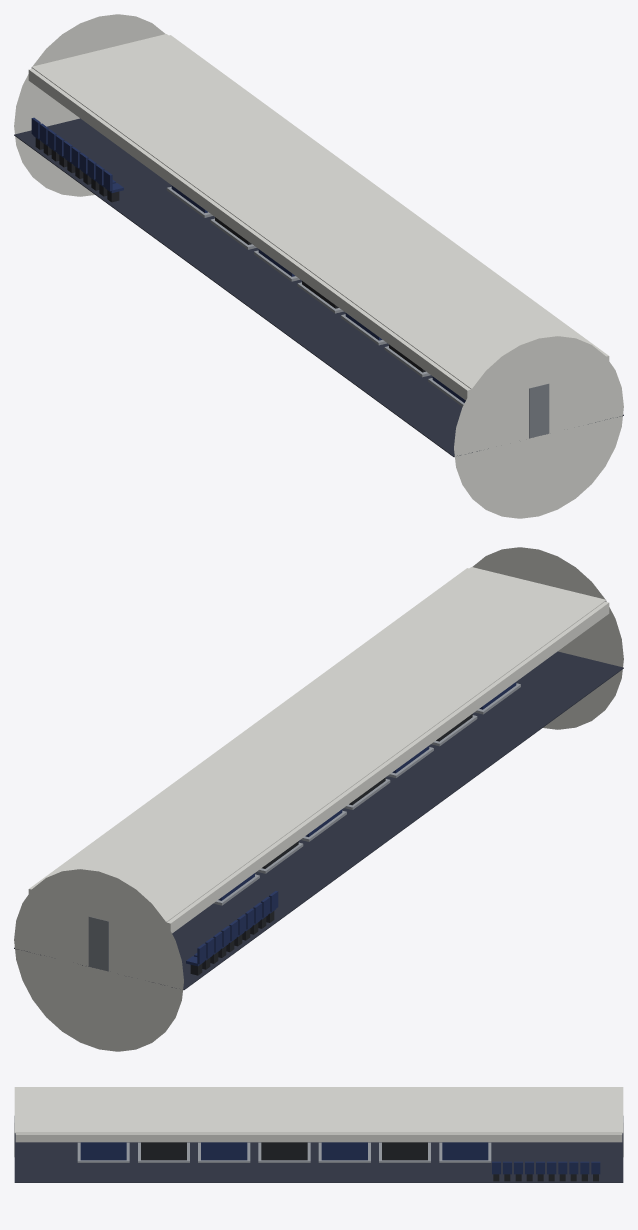
The model's file is lat_quad_high_cabin.dae.
The picture shows the model from 3 angles, top to bottom: view 1: azimuth 30°, elevation 25°; view 2: azimuth 150°, elevation 25°; view 3: azimuth 270°, elevation 25°; orthographic projection. The views are drawn at different scales.
Parts seen in each view (by area): view 1: lat_quad_high_cabin64; view 2: lat_quad_high_cabin64; view 3: lat_quad_high_cabin64.
Boxes of the visible parts, x1,y1,x2,y2 form: lat_quad_high_cabin64: [14, 14, 623, 518]; lat_quad_high_cabin64: [14, 547, 623, 1051]; lat_quad_high_cabin64: [14, 1087, 623, 1182].
Size of the model in its own units: 6.77 by 30.36 by 6.77.
